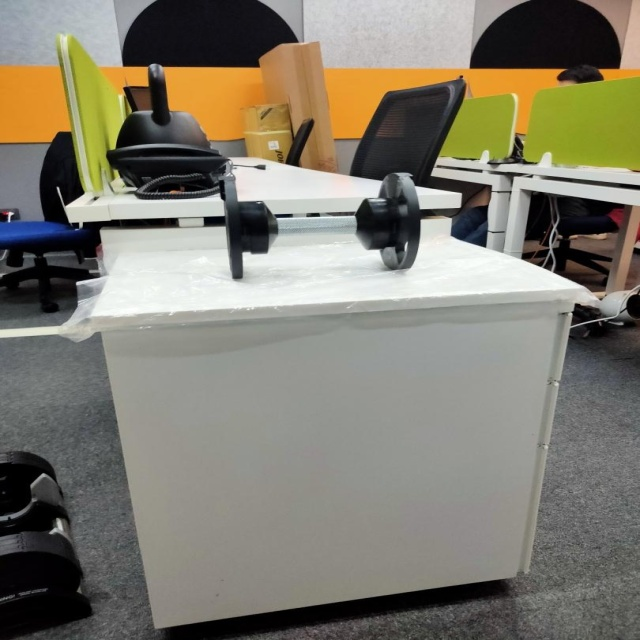01-2kg: (221, 170, 422, 280)
